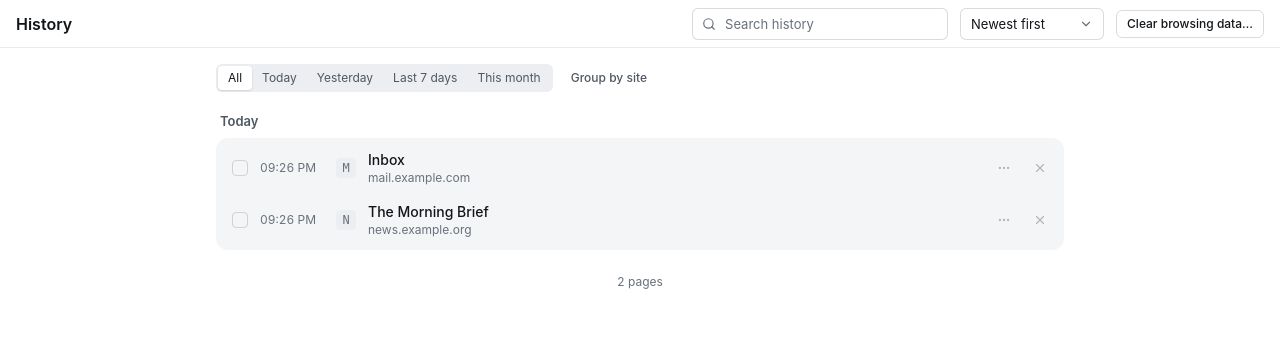
it: the history list › deletes everything selected at once
This screenshot has width=1280, height=362.
What coordinates should you click on to do the following:
click the 1st checkbox named "Select Inbox"
I would click on:
 (240, 168)
Its box is [232,160,248,176].
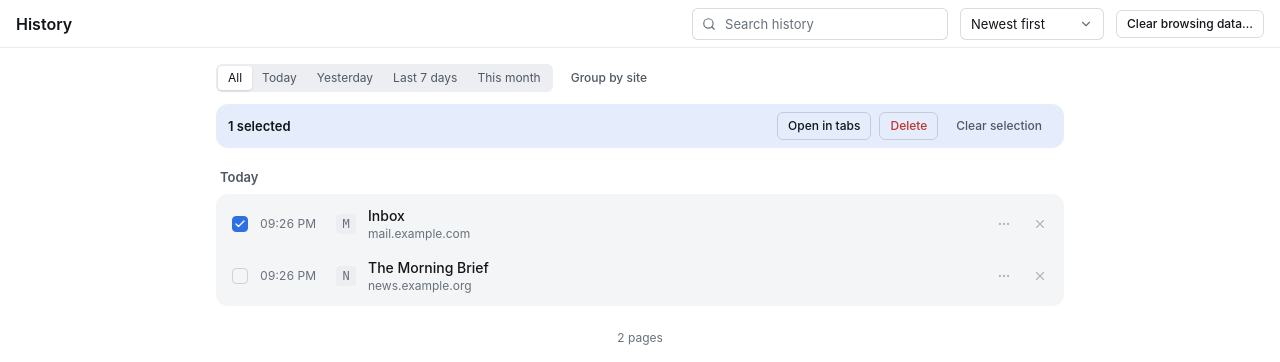
What coordinates should you click on to do the following:
click the 2nd checkbox named "Select The Morning Brief"
I would click on:
 (240, 276)
Its box is [232,268,248,284].
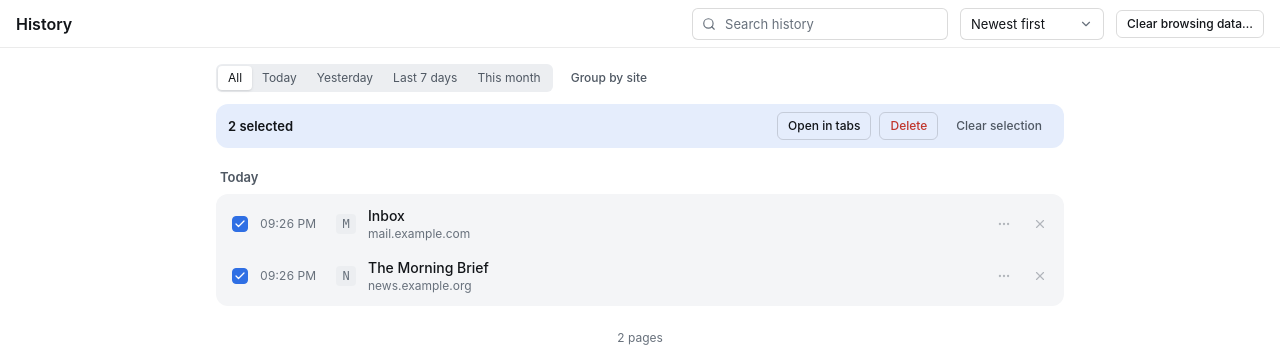
Expected: the text "2 selected" is shown, [228,118,293,134]
What coordinates should you click on to do the following:
click the button "Delete"
I would click on:
 (909, 126)
Its box is [880,112,938,140].
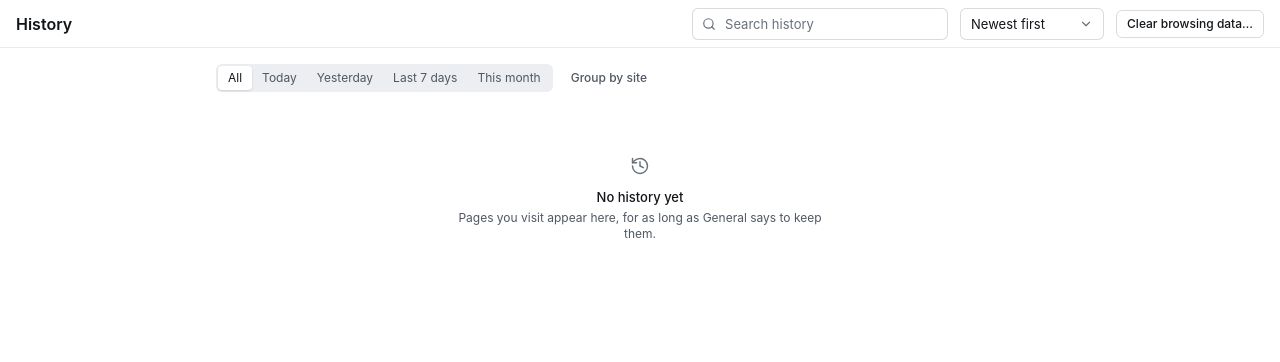
Expected: the button "Inbox" is gone
